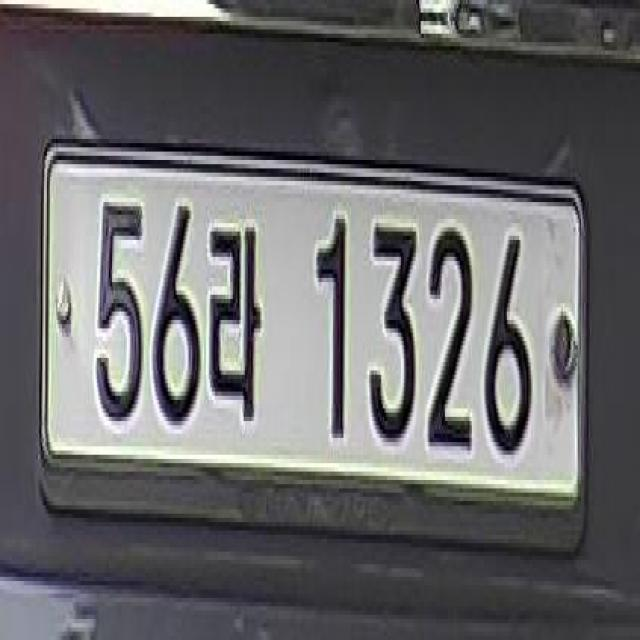illegal_plate: (38, 138, 596, 555)
